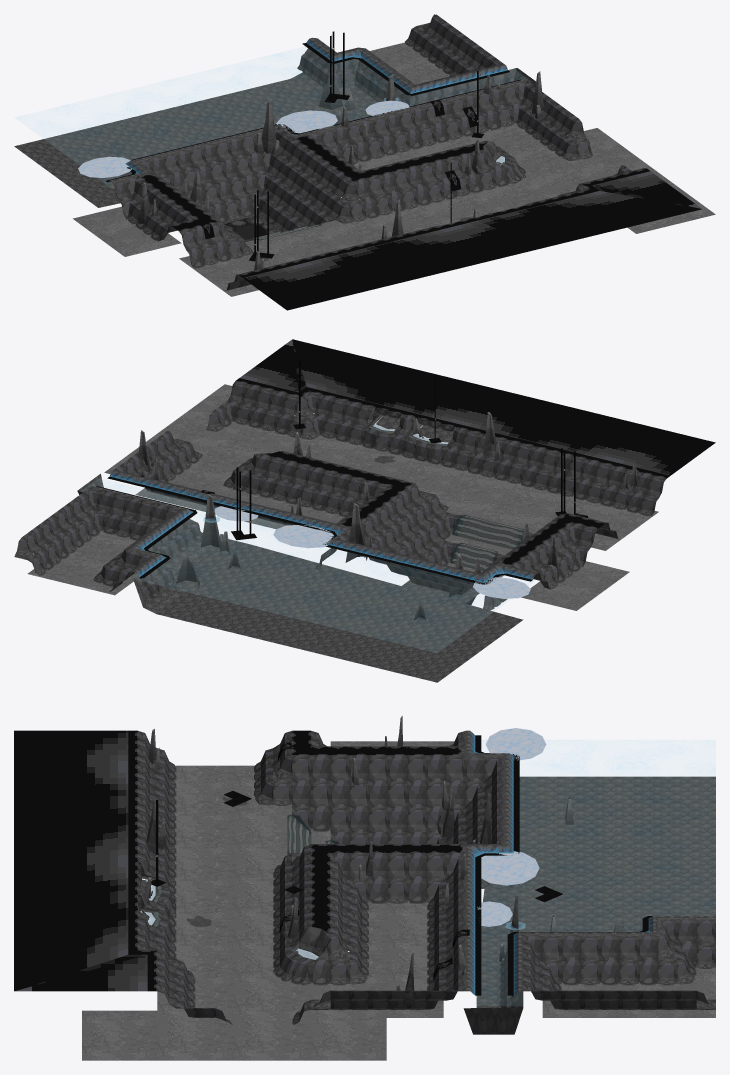
The picture shows the model from 3 angles, top to bottom: view 1: azimuth 30°, elevation 25°; view 2: azimuth 150°, elevation 25°; view 3: azimuth 270°, elevation 25°; orthographic projection. The views are drawn at different scales.
Visible parts, largest first — view 1: polygon4, polygon5, polygon0, polygon17, polygon2, polygon3, polygon8, polygon10, polygon11, polygon22, polygon20, polygon13 (+4 smaller); view 2: polygon2, polygon4, polygon0, polygon17, polygon5, polygon3, polygon8, polygon10, polygon21, polygon11, polygon7, polygon19 (+3 smaller); view 3: polygon17, polygon4, polygon0, polygon5, polygon2, polygon3, polygon8, polygon10, polygon11, polygon22, polygon20, polygon19 (+3 smaller).
Boxes of the visible parts, <box> form: polygon4: <box>114,18,624,289</box>; polygon5: <box>140,136,701,310</box>; polygon0: <box>16,47,530,187</box>; polygon17: <box>73,42,715,296</box>; polygon2: <box>14,23,586,240</box>; polygon3: <box>119,14,645,283</box>; polygon8: <box>127,23,617,290</box>; polygon10: <box>139,71,543,270</box>; polygon11: <box>78,100,409,177</box>; polygon22: <box>111,38,526,185</box>; polygon20: <box>110,38,526,181</box>; polygon13: <box>249,31,483,261</box>; polygon2: <box>14,413,523,682</box>; polygon4: <box>17,385,663,605</box>; polygon0: <box>82,478,534,652</box>; polygon17: <box>27,384,658,610</box>; polygon5: <box>236,339,715,564</box>; polygon3: <box>19,381,666,596</box>; polygon8: <box>15,407,653,610</box>; polygon10: <box>138,412,637,621</box>; polygon21: <box>109,472,534,582</box>; polygon11: <box>214,506,530,598</box>; polygon7: <box>450,514,524,570</box>; polygon19: <box>96,476,532,584</box>; polygon17: <box>82,741,715,1060</box>; polygon4: <box>141,733,715,1021</box>; polygon0: <box>475,740,715,1005</box>; polygon5: <box>14,730,459,991</box>; polygon2: <box>138,772,715,1034</box>; polygon3: <box>138,731,715,1010</box>; polygon8: <box>138,761,715,1024</box>; polygon10: <box>142,716,624,1006</box>; polygon11: <box>477,728,546,926</box>; polygon22: <box>458,731,715,991</box>; polygon20: <box>465,730,715,991</box>; polygon19: <box>475,735,652,996</box>.
Size of the model in its own units: 9.52 by 3.13 by 9.11.
26 materials, 26 textured.
